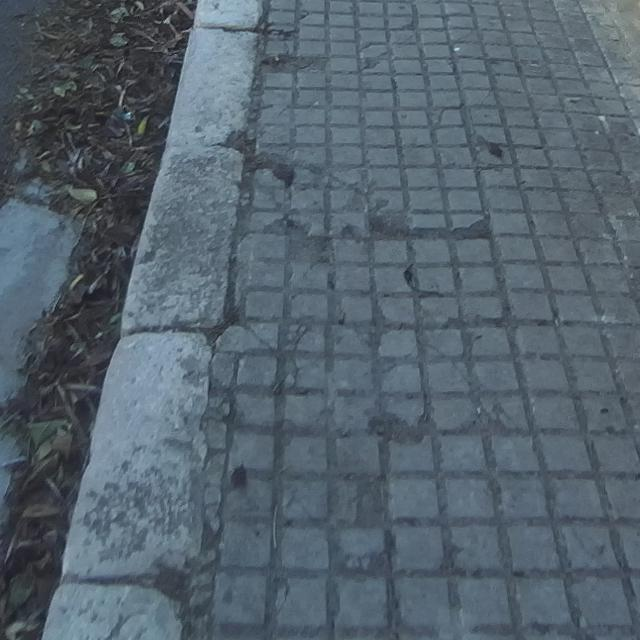calcada_quebrada: (370, 392, 524, 456), (367, 207, 501, 247), (270, 155, 371, 203), (263, 210, 338, 271), (266, 319, 323, 398), (274, 51, 354, 76), (360, 39, 391, 77)
